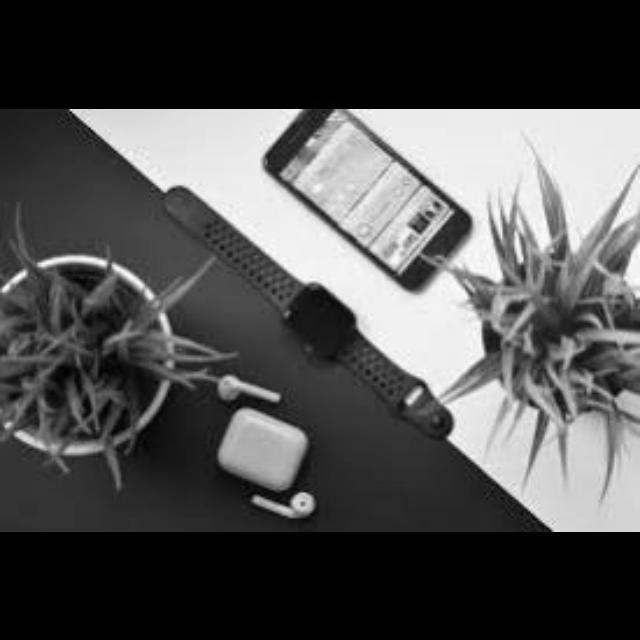fake: (270, 112, 462, 296)
